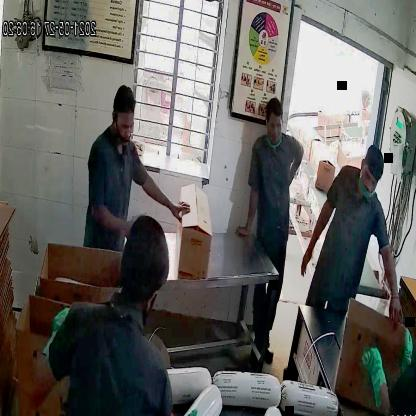no_goggles: (113, 113, 136, 138), (361, 166, 380, 190)
